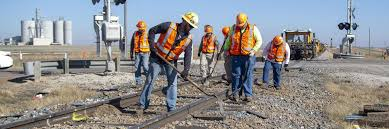helmet: (184, 12, 197, 27), (236, 13, 246, 26), (272, 35, 282, 46), (137, 20, 146, 30), (205, 24, 213, 33), (221, 27, 227, 35)
vest: (162, 25, 188, 67), (233, 30, 256, 55), (270, 46, 287, 64), (199, 36, 217, 53), (134, 33, 147, 52)
